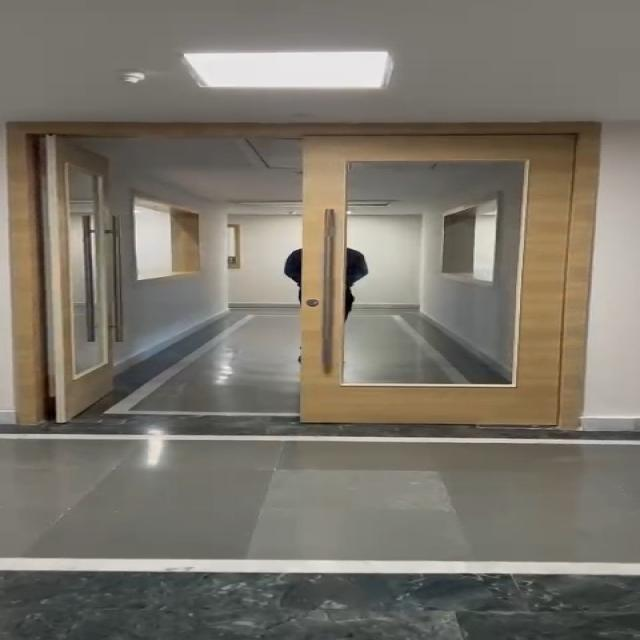door: (307, 130, 573, 427)
floor: (0, 427, 640, 640), (193, 307, 299, 424)
wall: (243, 217, 287, 303), (126, 286, 234, 321)
